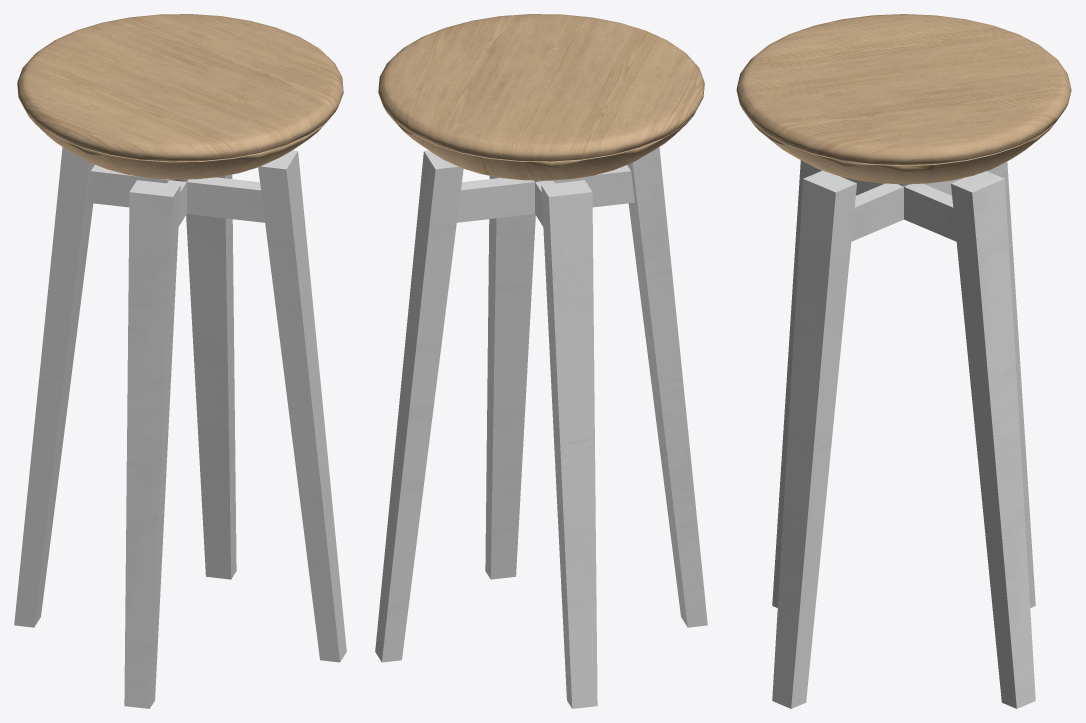
File: wood_bar_stool.glb
3 views of the same model, side by side, from view 1: azimuth 30°, elevation 25°; view 2: azimuth 150°, elevation 25°; view 3: azimuth 270°, elevation 25° (orthographic). The views are drawn at different scales.
Visible parts, largest first — view 1: Wood Bar Stool; view 2: Wood Bar Stool; view 3: Wood Bar Stool.
Part boxes in pixels (left/top/right/bottom): Wood Bar Stool: left=14, top=14, right=346, bottom=708; Wood Bar Stool: left=375, top=14, right=707, bottom=708; Wood Bar Stool: left=736, top=14, right=1071, bottom=708.
Size of the model in its own units: 0.4002 by 0.7545 by 0.4002.
Materials: 1 (1 with a texture image).
